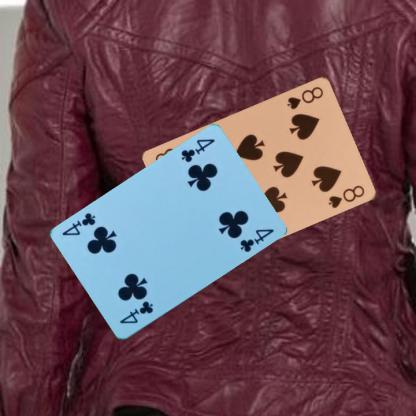4c: (178, 136, 217, 164), (117, 299, 154, 325)
8s: (284, 84, 325, 110)
